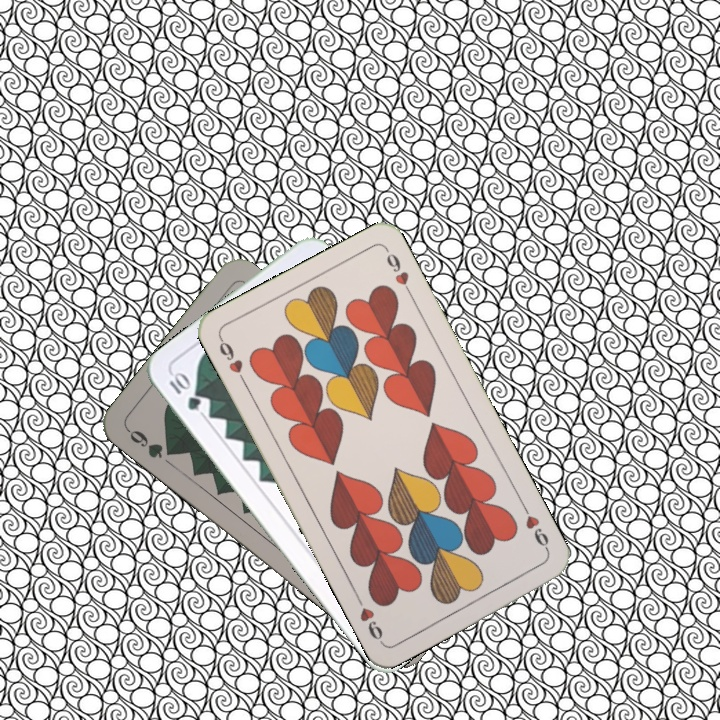G10: (165, 368, 204, 413)
G9: (123, 425, 179, 461)
H9: (215, 333, 250, 388), (518, 501, 553, 556)
